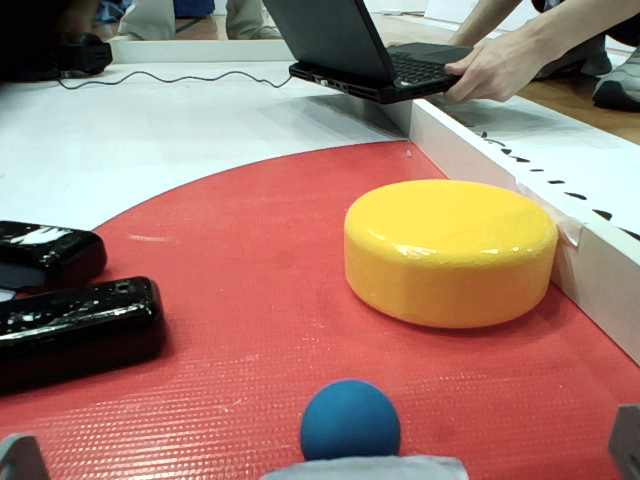black: (1, 268, 171, 387), (1, 206, 120, 287)
blue: (265, 381, 435, 472)
yellow: (325, 180, 571, 337)
